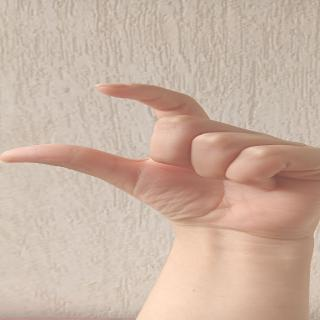DELL: (0, 73, 320, 236)
